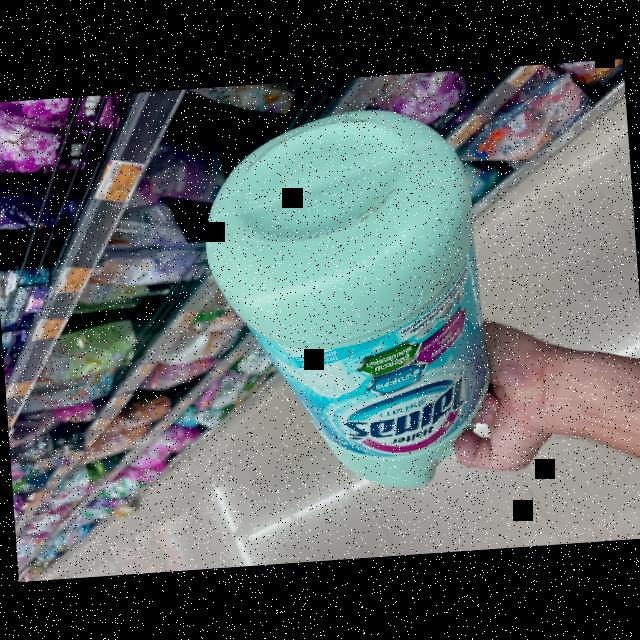chemical_plastic_bottle: (190, 99, 512, 507)
